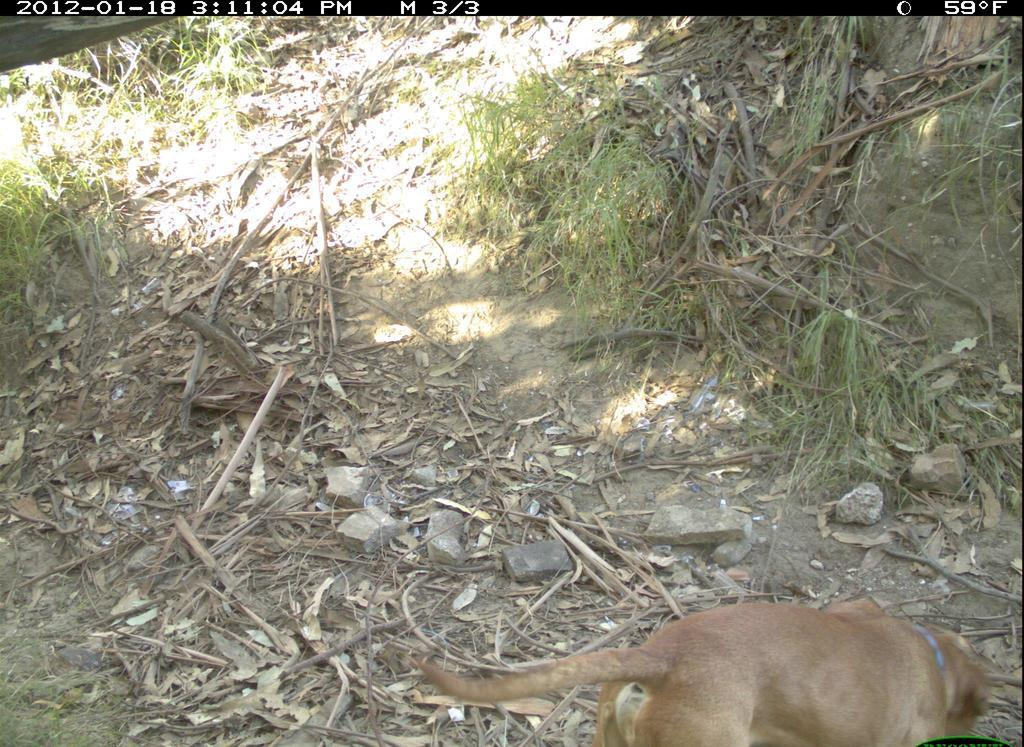dog: (410, 596, 994, 745)
